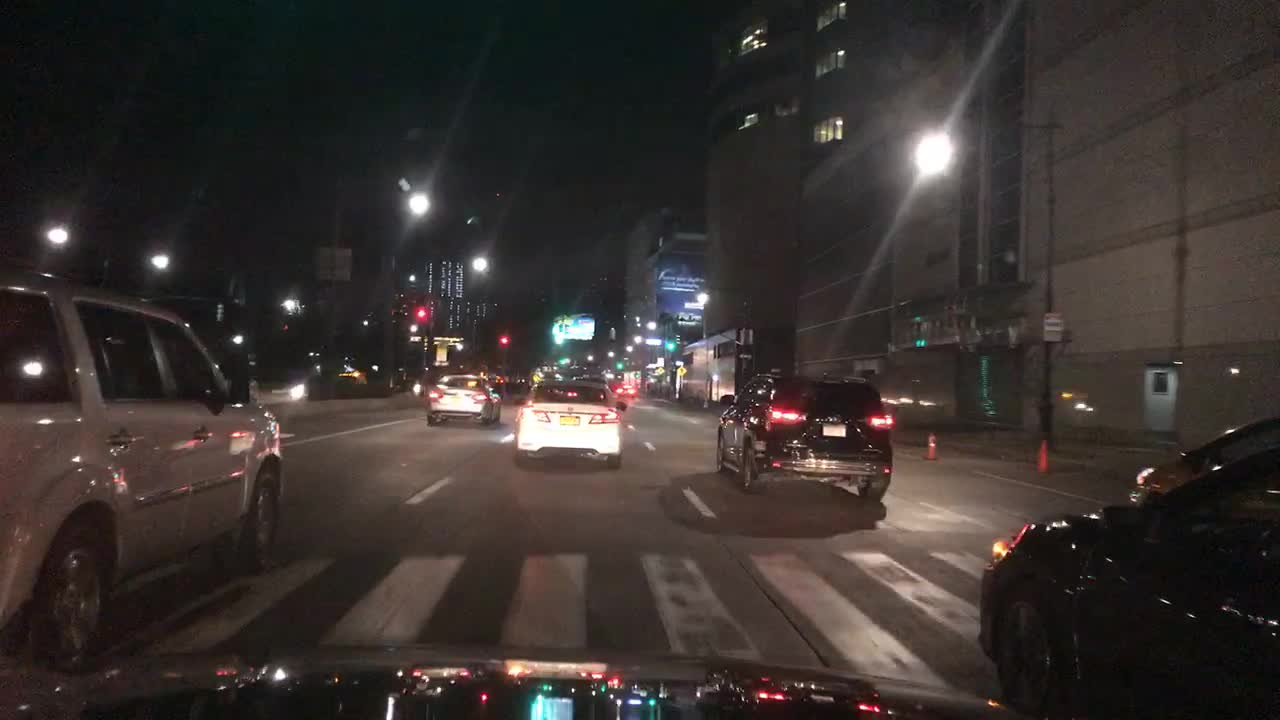car: (1, 269, 291, 658), (974, 417, 1279, 714), (712, 371, 894, 505), (511, 376, 628, 472), (231, 355, 322, 408), (422, 373, 502, 430), (336, 364, 371, 395), (387, 373, 425, 401), (602, 376, 639, 402), (483, 371, 508, 401), (569, 373, 605, 388), (504, 376, 525, 394)
traffic light: (413, 304, 429, 324), (665, 336, 679, 353), (497, 332, 513, 345), (614, 357, 626, 373), (555, 355, 571, 366)
traffic sign: (314, 243, 354, 283), (1041, 308, 1062, 343), (674, 364, 686, 380), (654, 355, 667, 369)
